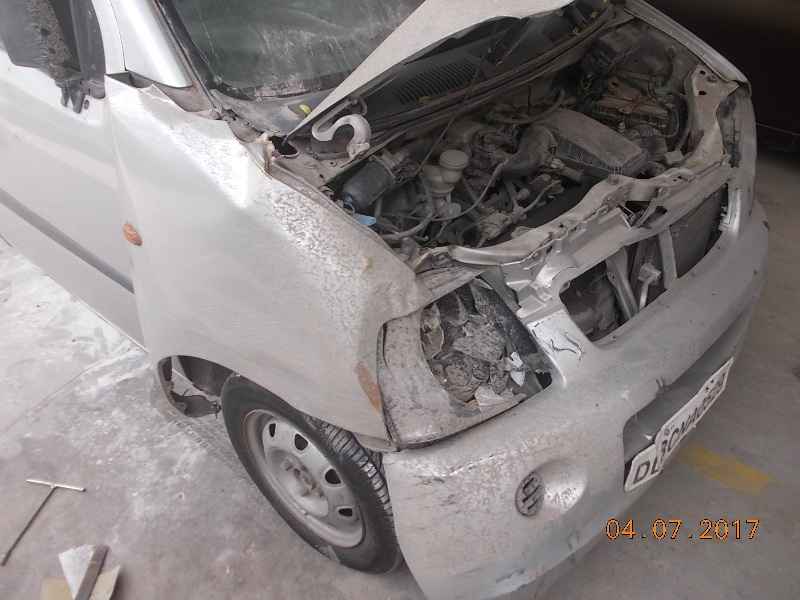Dislocation: (114, 44, 198, 129)
